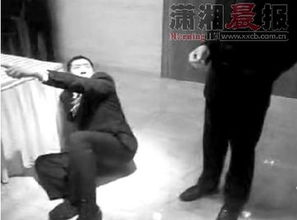fall: (3, 46, 144, 216)
